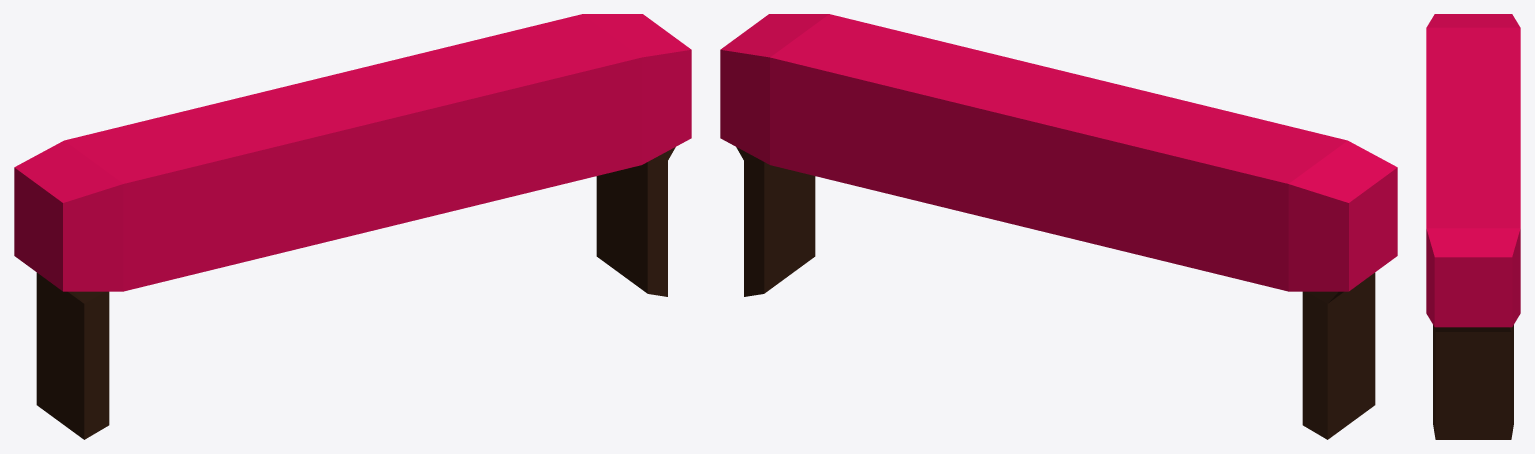
The model's file is Bench.fbx.
3 views of the same model, side by side, from view 1: azimuth 30°, elevation 25°; view 2: azimuth 150°, elevation 25°; view 3: azimuth 270°, elevation 25° (orthographic). The views are drawn at different scales.
Visible parts, largest first — view 1: Bench; view 2: Bench; view 3: Bench.
Boxes of the visible parts, x1=… form: Bench: x1=14, y1=14, x2=691, y2=439; Bench: x1=720, y1=14, x2=1397, y2=439; Bench: x1=1426, y1=14, x2=1520, y2=439.
Size of the model in its own units: 692 by 265 by 113.
